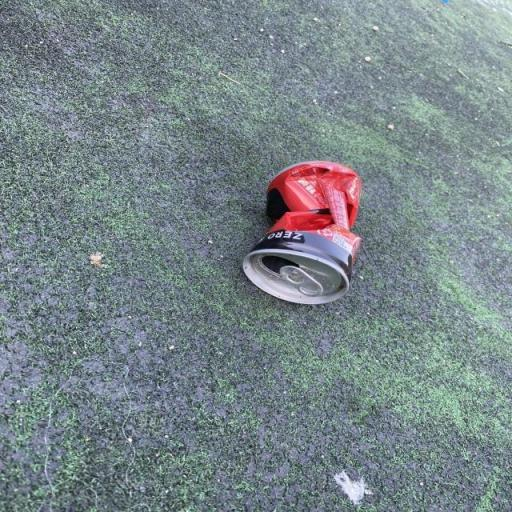metal: (224, 147, 399, 322)
